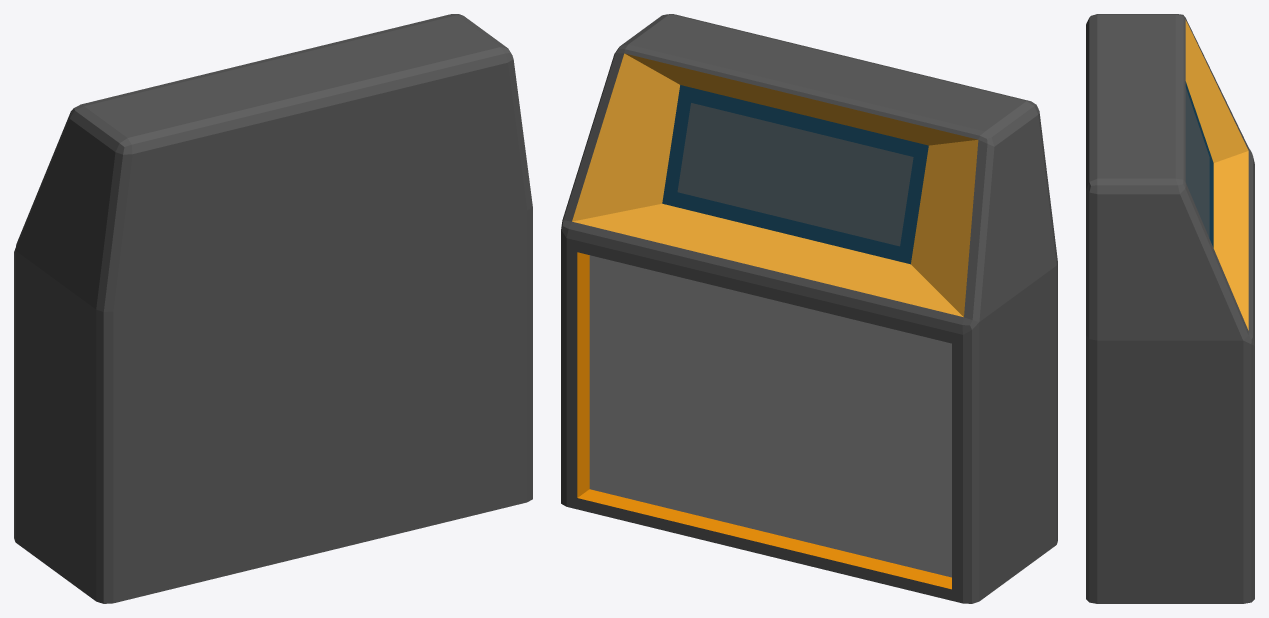
Rendered from ordinateur1.glb.
3 views of the same model, side by side, from view 1: azimuth 30°, elevation 25°; view 2: azimuth 150°, elevation 25°; view 3: azimuth 270°, elevation 25° (orthographic). The views are drawn at different scales.
Visible parts, largest first — view 1: Cube; view 2: Cube; view 3: Cube.
Boxes of the visible parts, x1,y1,x2,y2 form: Cube: (14,14,532,603); Cube: (561,14,1057,603); Cube: (1086,14,1254,603).
Bounding box in the file's own units: 0.665 × 0.665 × 0.2471.
1 material, 1 textured.
